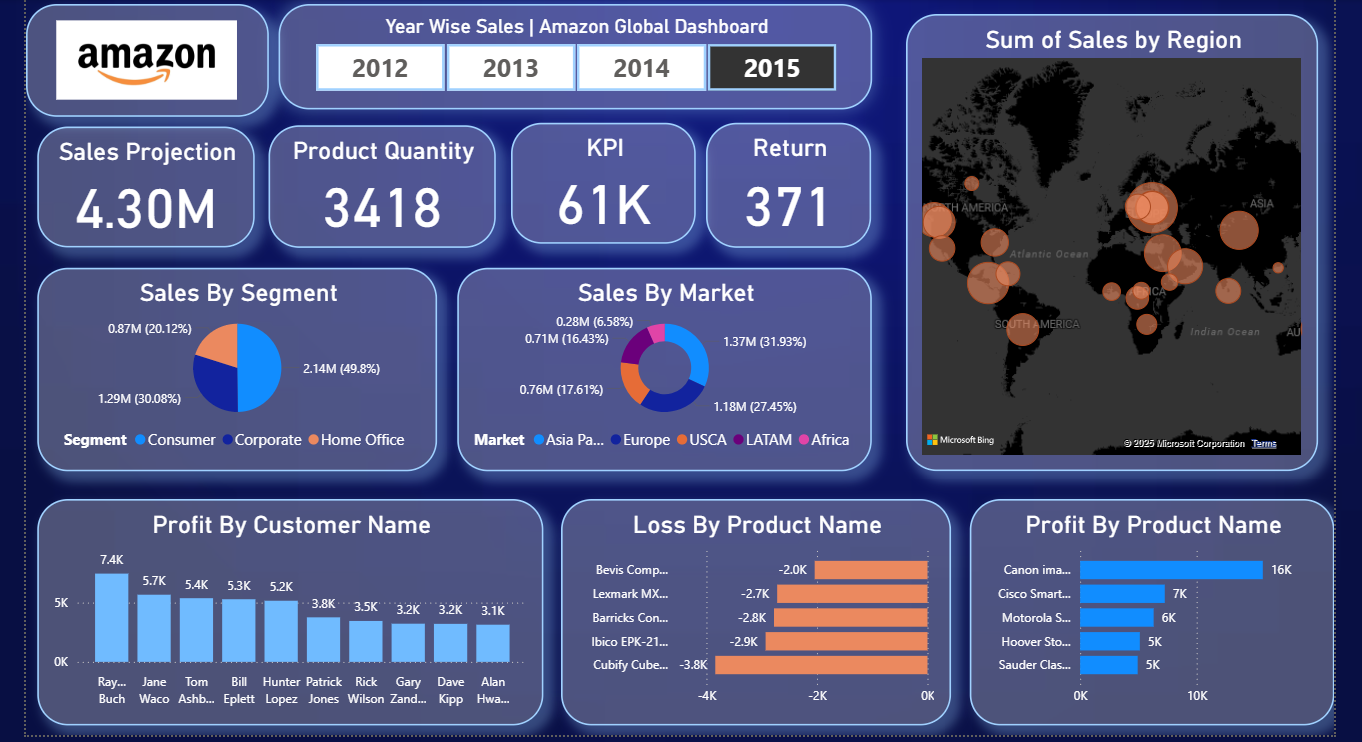

This screenshot's page, from the dashboard's own definition file:
{"tool":"powerbi","page":{"name":"Dash 2 Formating","canvas":[1280,720],"ordinal":0},"visuals":[{"type":"slicer","title":"Year Wise Sales | Amazon Global Dashboard","fields":{"Values":["Orders.Year"]},"box":[247,5.5,580.4,102.9],"z":0},{"type":"card","title":"Sales Projection","fields":{"Values":["Orders.Sales"]},"box":[11,124.7,212.8,114.9],"z":1000},{"type":"image","box":[0,4.9,237.2,110.1],"z":2000},{"type":"card","title":"Product Quantity","fields":{"Values":["Orders.Product Name"]},"box":[237.2,123.5,222.6,114.9],"z":3000},{"type":"card","title":"KPI","fields":{"Values":["Orders.Quantity"]},"box":[474.8,120.8,181.1,118],"z":4000},{"type":"card","title":"Return","fields":{"Values":["Orders.Ship Date"]},"box":[665.5,120.8,161.9,122.1],"z":5000},{"type":"pieChart","title":"Sales By Segment","fields":{"Y":["Orders.Sales"],"Category":["Orders.Segment"]},"box":[11,262.9,391.3,199.3],"z":6000},{"type":"donutChart","title":"Sales By Market","fields":{"Y":["Orders.Sales"],"Category":["Orders.Market"]},"box":[421.9,262.9,406,199.3],"z":7000},{"type":"columnChart","title":"Profit By Customer Name","fields":{"Y":["Orders.Profit"],"Category":["Orders.Customer Name"]},"box":[11,489.1,495.2,221.3],"z":8000},{"type":"clusteredBarChart","title":"Loss By Product Name","fields":{"Category":["Orders.Product Name"],"Y":["Orders.Profit"]},"box":[523.4,489.1,381.5,221.3],"z":9000},{"type":"clusteredBarChart","title":"Profit By Product Name","fields":{"Y":["Orders.Profit"],"Category":["Orders.Product Name"]},"box":[923.2,489.1,357.1,221.3],"z":10000},{"type":"map","fields":{"Category":["Orders.Region"],"Size":["Orders.Sales"]},"box":[860.4,15.1,403.4,447.3],"z":11000}]}

Visuals, with their boxes in screenshot pixels (x1, y1, x2, y2):
"Year Wise Sales | Amazon Global Dashboard" slicer: <bbox>279, 6, 868, 110</bbox>
"Sales Projection" card: <bbox>40, 127, 256, 243</bbox>
image: <bbox>28, 5, 269, 117</bbox>
"Product Quantity" card: <bbox>269, 125, 495, 242</bbox>
"KPI" card: <bbox>510, 123, 694, 242</bbox>
"Return" card: <bbox>704, 123, 868, 247</bbox>
"Sales By Segment" pieChart: <bbox>40, 267, 437, 469</bbox>
"Sales By Market" donutChart: <bbox>457, 267, 869, 469</bbox>
"Profit By Customer Name" columnChart: <bbox>40, 497, 542, 721</bbox>
"Loss By Product Name" clusteredBarChart: <bbox>560, 497, 947, 721</bbox>
"Profit By Product Name" clusteredBarChart: <bbox>966, 497, 1328, 721</bbox>
map - Orders.Region x Orders.Sales: <bbox>902, 15, 1312, 469</bbox>
